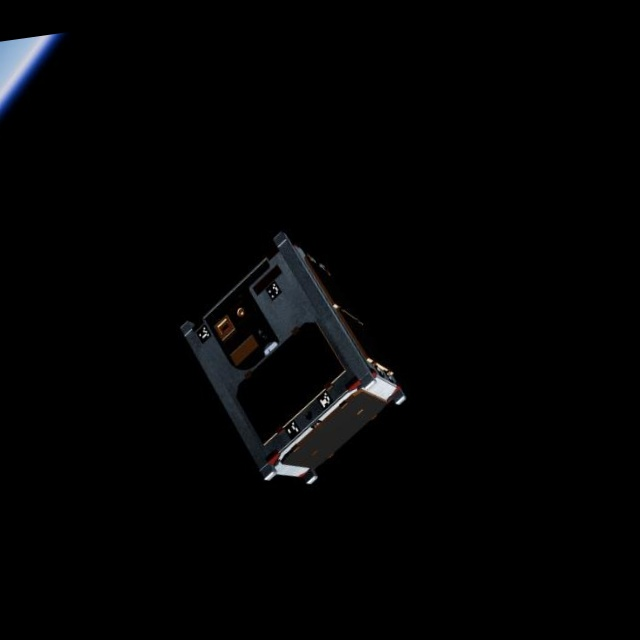satellite: (155, 206, 433, 510)
